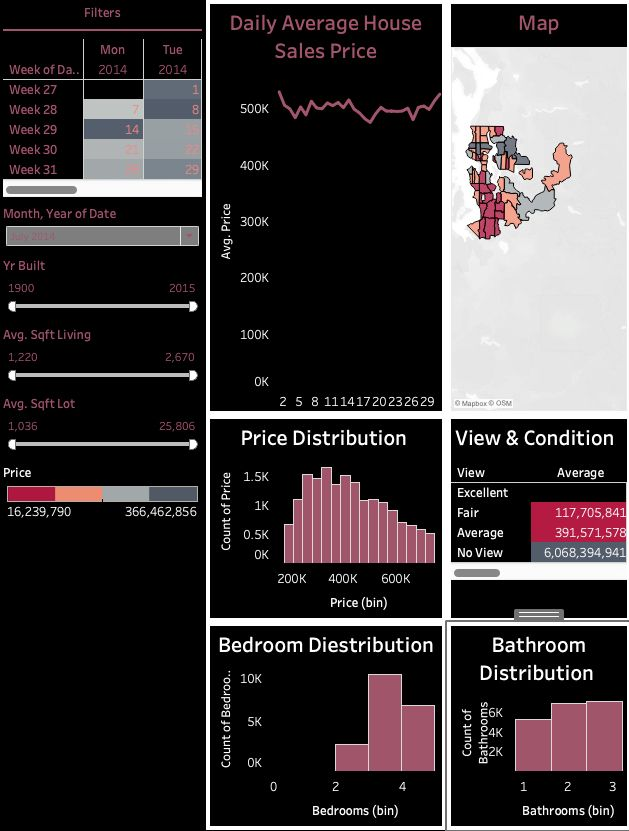

The dashboard page shown, as its layout file describes it:
{"tool":"tableau","page":{"name":"Dashboard 1","canvas":[650,860],"ordinal":0},"visuals":[{"type":"text","box":[9,9,207.3,25]},{"type":"worksheet","title":"Line Chart","mark":"Automatic","rows":["price"],"cols":["date"],"box":[216.3,9,240.2,421]},{"type":"worksheet","title":"Map","mark":"Multipolygon","box":[456.6,9,184.4,421]},{"type":"blank","box":[9,34,207.3,10]},{"type":"worksheet","title":"Calender ","mark":"Square","rows":["date"],"cols":["date","date"],"box":[9,44,207.3,166]},{"type":"filter","title":"Calender ","param":"[federated.0s3o19h1ee4tgf1dvrimg18gkomt].[my:date:ok]","box":[9,210,207.3,52]},{"type":"filter","title":"Calender ","param":"[federated.0s3o19h1ee4tgf1dvrimg18gkomt].[none:yr_built:qk]","box":[9,262,207.3,69]},{"type":"filter","title":"Calender ","param":"[federated.0s3o19h1ee4tgf1dvrimg18gkomt].[avg:sqft_living:qk]","box":[9,331,207.3,69]},{"type":"filter","title":"Calender ","param":"[federated.0s3o19h1ee4tgf1dvrimg18gkomt].[avg:sqft_lot:qk]","box":[9,400,207.3,69]},{"type":"worksheet","title":"Price Distribution ","mark":"Automatic","rows":["price"],"cols":["Price (bin)"],"box":[216.3,430,240.2,210.5]},{"type":"worksheet","title":"View & Condition","mark":"Square","rows":["view"],"cols":["condition"],"box":[456.6,430,184.4,210.5]},{"type":"legend","title":"Map","param":"[federated.0s3o19h1ee4tgf1dvrimg18gkomt].[sum:price:qk]","box":[9,469,207.3,65]},{"type":"worksheet","title":"Bedroom Distribution ","mark":"Automatic","rows":["bedrooms"],"cols":["Bedrooms (bin)"],"box":[216.3,640.5,240.2,210.5]},{"type":"worksheet","title":"Bathroom Distribution ","mark":"Automatic","rows":["bathrooms"],"cols":["Bathrooms (bin)"],"box":[456.6,640.5,184.4,210.5]}]}

Visuals, with their boxes in screenshot pixels (x1, y1, x2, y2), scaled from the page's 650x860 canvas onto the 629x831 screenshot:
text: (9, 9, 209, 33)
"Line Chart" worksheet: (209, 9, 442, 416)
"Map" worksheet (Multipolygon marks): (442, 9, 620, 416)
blank: (9, 33, 209, 43)
"Calender " worksheet (Square marks): (9, 43, 209, 203)
"Calender " filter: (9, 203, 209, 253)
"Calender " filter: (9, 253, 209, 320)
"Calender " filter: (9, 320, 209, 387)
"Calender " filter: (9, 387, 209, 453)
"Price Distribution " worksheet: (209, 416, 442, 619)
"View & Condition" worksheet (Square marks): (442, 416, 620, 619)
"Map" legend: (9, 453, 209, 516)
"Bedroom Distribution " worksheet: (209, 619, 442, 822)
"Bathroom Distribution " worksheet: (442, 619, 620, 822)
